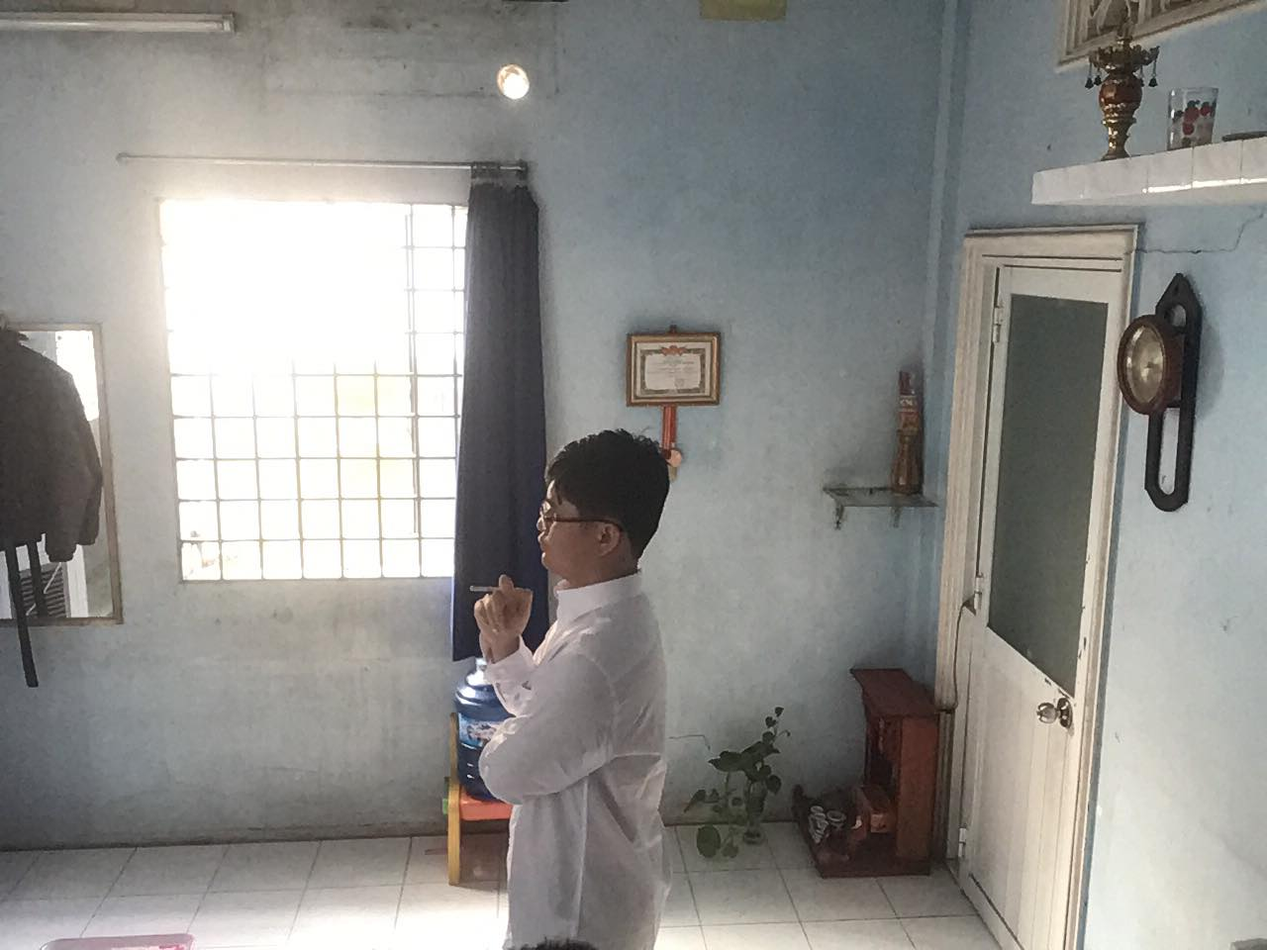cigarette: (471, 581, 498, 597)
person: (451, 415, 714, 950)
